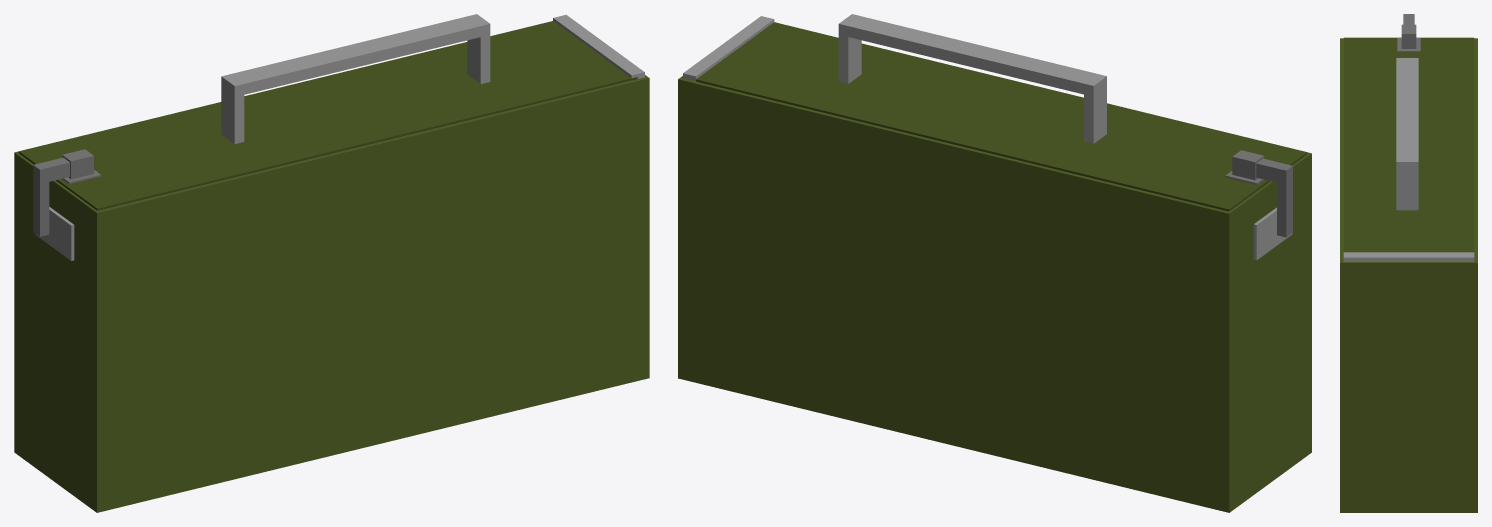
Rendered from cartridges14.fbx.
3 renders of one model, left to right at view 1: azimuth 30°, elevation 25°; view 2: azimuth 150°, elevation 25°; view 3: azimuth 270°, elevation 25°, orthographic. The views are drawn at different scales.
Visible parts, largest first — view 1: Cube_5, Cube_2; view 2: Cube_5, Cube_2; view 3: Cube_5, Cube_2.
Boxes of the visible parts, bbox=[...] form: Cube_5: bbox=[14, 75, 649, 512]; Cube_2: bbox=[18, 14, 644, 236]; Cube_5: bbox=[678, 76, 1311, 512]; Cube_2: bbox=[683, 14, 1307, 237]; Cube_5: bbox=[1340, 38, 1477, 512]; Cube_2: bbox=[1343, 14, 1474, 261].
Bounding box in the file's own units: 48.69 × 29.31 × 12.21.
